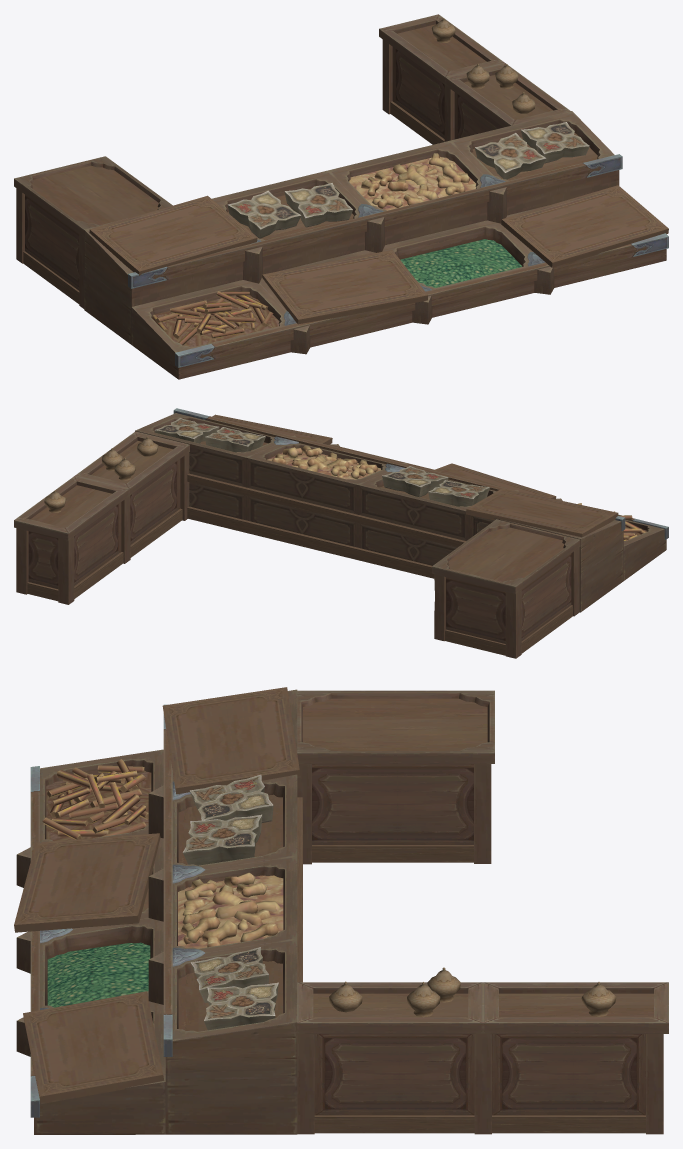
Rendered from Homeworld_Exterior_Xm_Build_Prop_PortTanwei_01_Lod0.fbx.
3 renders of one model, top to bottom at view 1: azimuth 30°, elevation 25°; view 2: azimuth 150°, elevation 25°; view 3: azimuth 270°, elevation 25°, orthographic. The views are drawn at different scales.
Parts seen in each view (by area): view 1: Area_Xm_Prop_XKC_Tanwei_06_Lod0; view 2: Area_Xm_Prop_XKC_Tanwei_06_Lod0; view 3: Area_Xm_Prop_XKC_Tanwei_06_Lod0.
Boxes of the visible parts, x1,y1,x2,y2 form: Area_Xm_Prop_XKC_Tanwei_06_Lod0: (14,14,668,379); Area_Xm_Prop_XKC_Tanwei_06_Lod0: (14,408,668,658); Area_Xm_Prop_XKC_Tanwei_06_Lod0: (14,687,668,1134).
Size of the model in its own units: 6.11 by 1.19 by 5.03.
